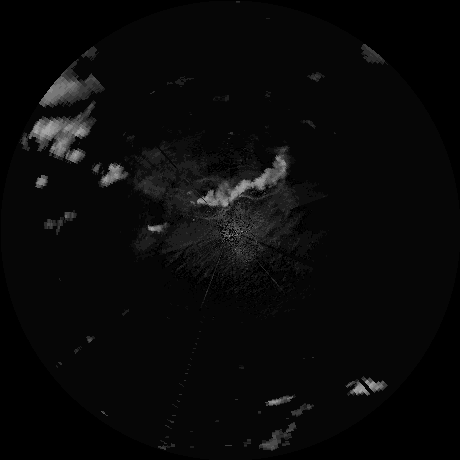frontgust: (237, 179, 285, 201), (198, 200, 233, 220)
